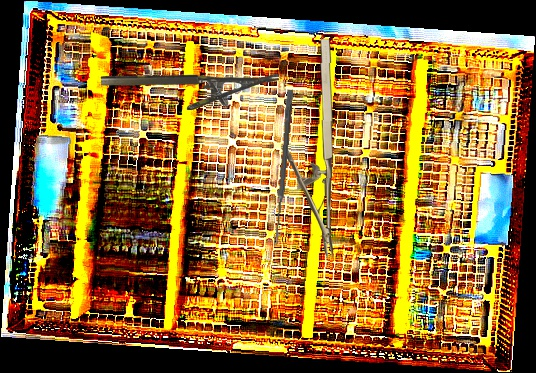Needle Holder: (281, 38, 337, 260), (101, 74, 279, 110)
Surgical Spoon: (272, 89, 294, 246)
